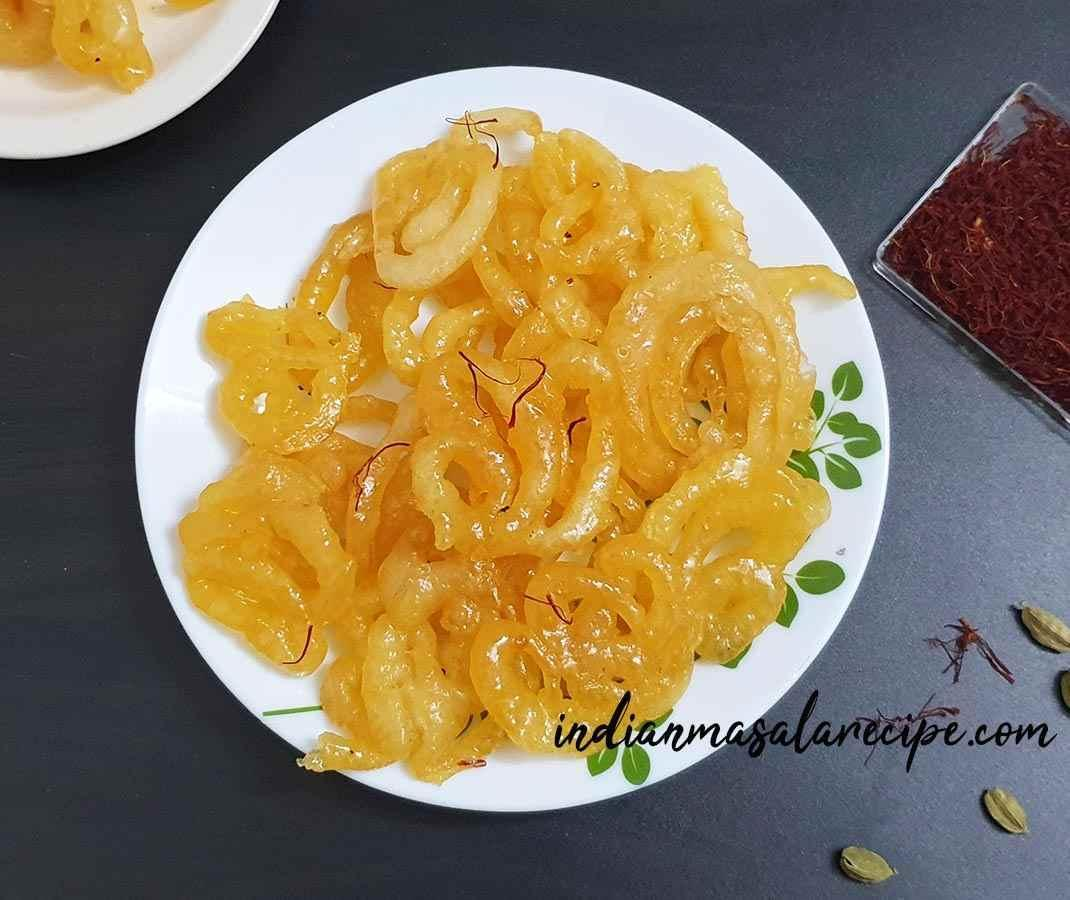jalebi: (205, 119, 828, 805), (0, 6, 168, 99)
